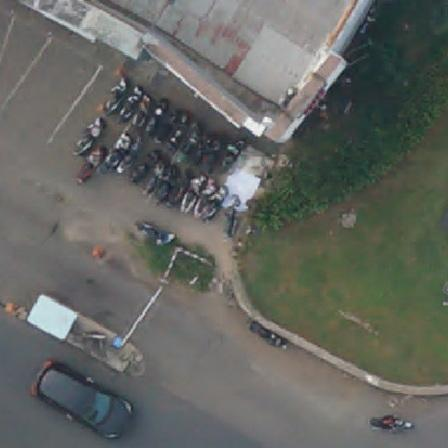Car: (28, 359, 137, 444)
Motorcycle: (246, 319, 287, 351), (74, 146, 103, 188), (367, 415, 417, 437), (218, 135, 245, 171), (128, 149, 155, 184), (101, 75, 124, 111), (181, 173, 202, 212), (120, 81, 139, 121), (76, 116, 99, 149), (144, 100, 165, 135), (162, 113, 181, 149), (106, 129, 124, 167), (202, 185, 221, 221), (119, 141, 135, 174), (144, 161, 161, 192), (134, 92, 147, 126), (156, 168, 168, 204), (199, 125, 209, 165), (173, 168, 184, 202), (184, 127, 196, 157), (198, 177, 207, 217), (208, 140, 218, 170)
